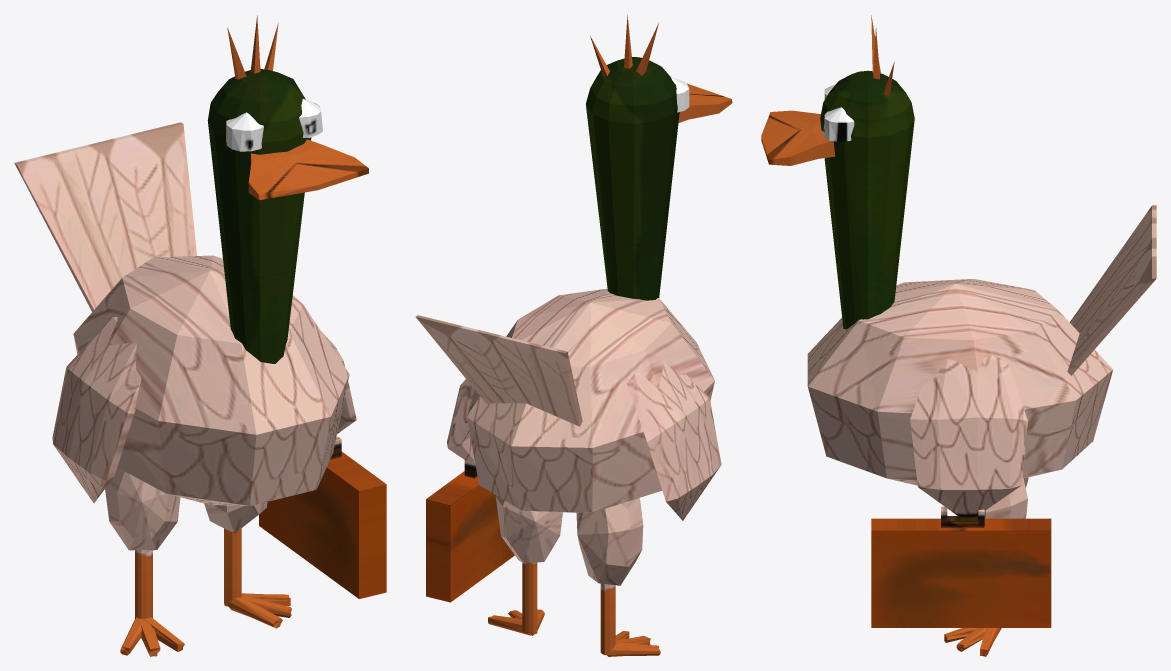
Rendered from Farm1.glb.
3 views of the same model, side by side, from view 1: azimuth 30°, elevation 25°; view 2: azimuth 150°, elevation 25°; view 3: azimuth 270°, elevation 25° (orthographic). The views are drawn at different scales.
Parts seen in each view (by area): view 1: Farm1; view 2: Farm1; view 3: Farm1.
Part boxes in pixels (box(x1,y1,x2,y2)): Farm1: box(14, 15, 386, 656); Farm1: box(415, 15, 732, 656); Farm1: box(761, 15, 1156, 656).
Size of the model in its own units: 178 by 427 by 259.
1 material, 1 textured.
